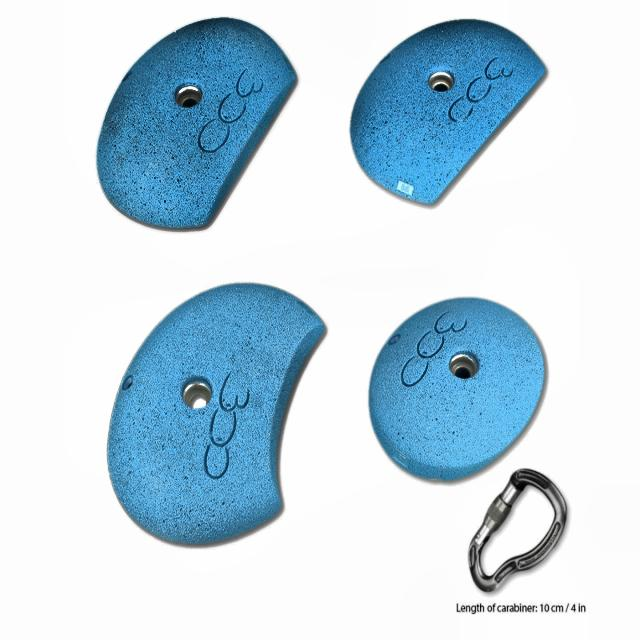Hold: (109, 284, 318, 544), (97, 22, 284, 234), (341, 18, 547, 205), (369, 298, 546, 481)
